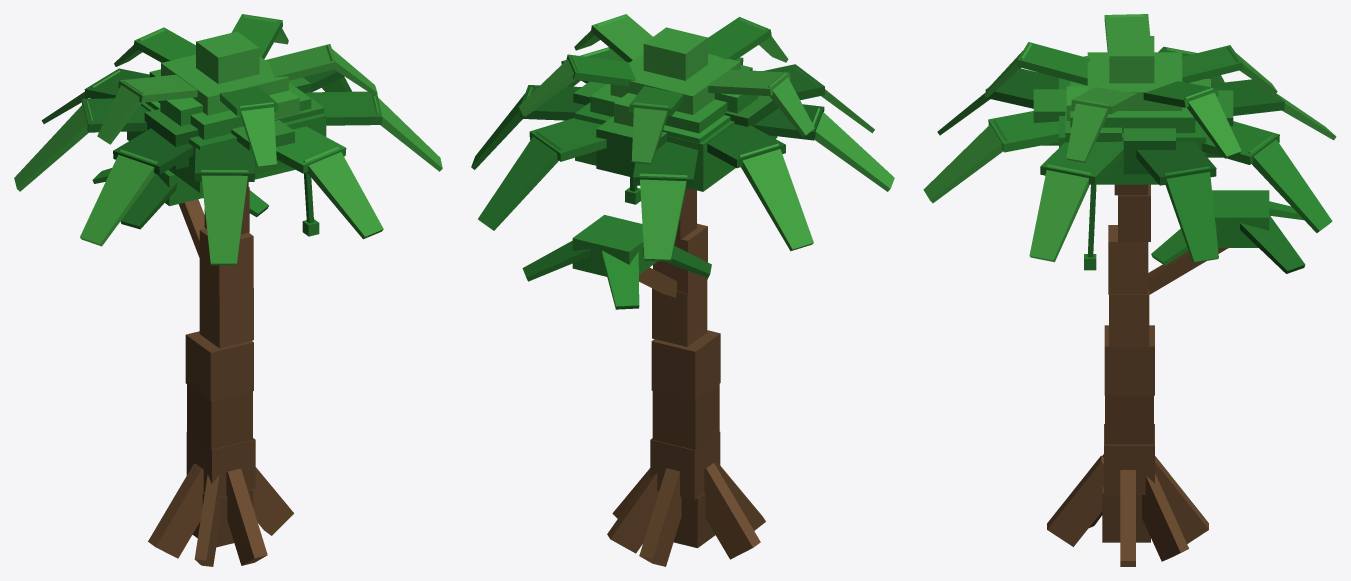
File: jungle_tree.glb
3 views of the same model, side by side, from view 1: azimuth 30°, elevation 25°; view 2: azimuth 150°, elevation 25°; view 3: azimuth 270°, elevation 25° (orthographic).
Visible parts, largest first — view 1: jungle_tree; view 2: jungle_tree; view 3: jungle_tree.
Part boxes in pixels (box(x1,y1,x2,y2)): jungle_tree: box(14, 14, 442, 566); jungle_tree: box(471, 14, 894, 566); jungle_tree: box(923, 14, 1336, 566).
Bounding box in the file's own units: 5.32 × 7.14 × 5.32.
